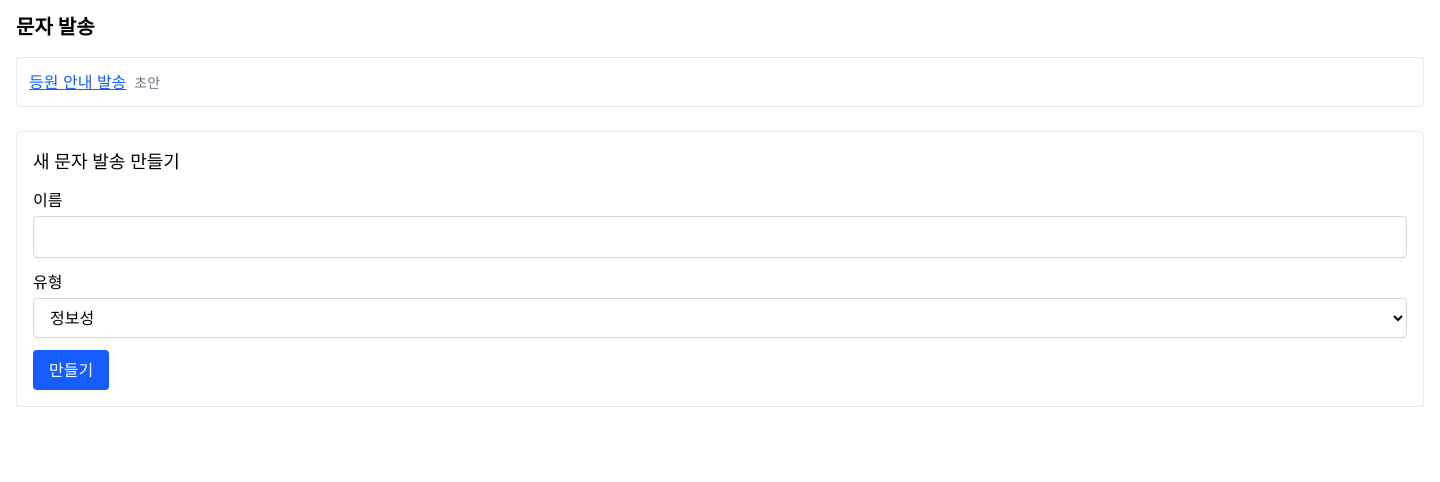
Test: MessageDraftsListPage › loads drafts and creates a new one
Expected: the link "등원 안내 발송" is shown, x1=29 y1=72 x2=126 y2=92
Step 1. Type "신규 발송" into the field labelled "이름" → (720, 237), box x1=33 y1=216 x2=1407 y2=258
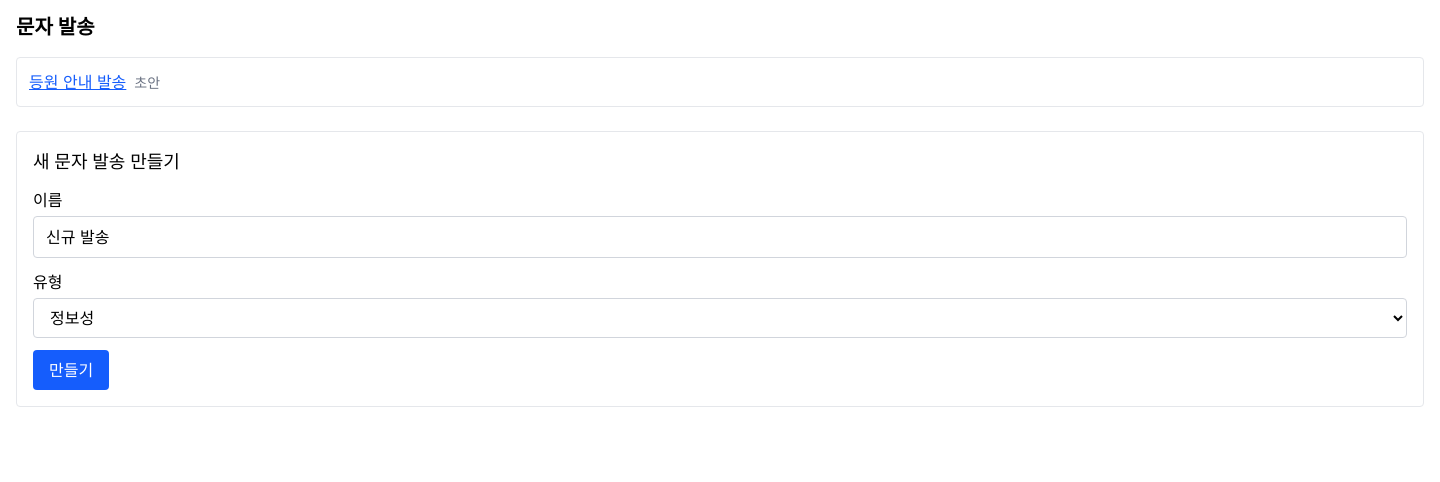
Step 2. Click the button "만들기" → (71, 370), box x1=33 y1=350 x2=109 y2=390
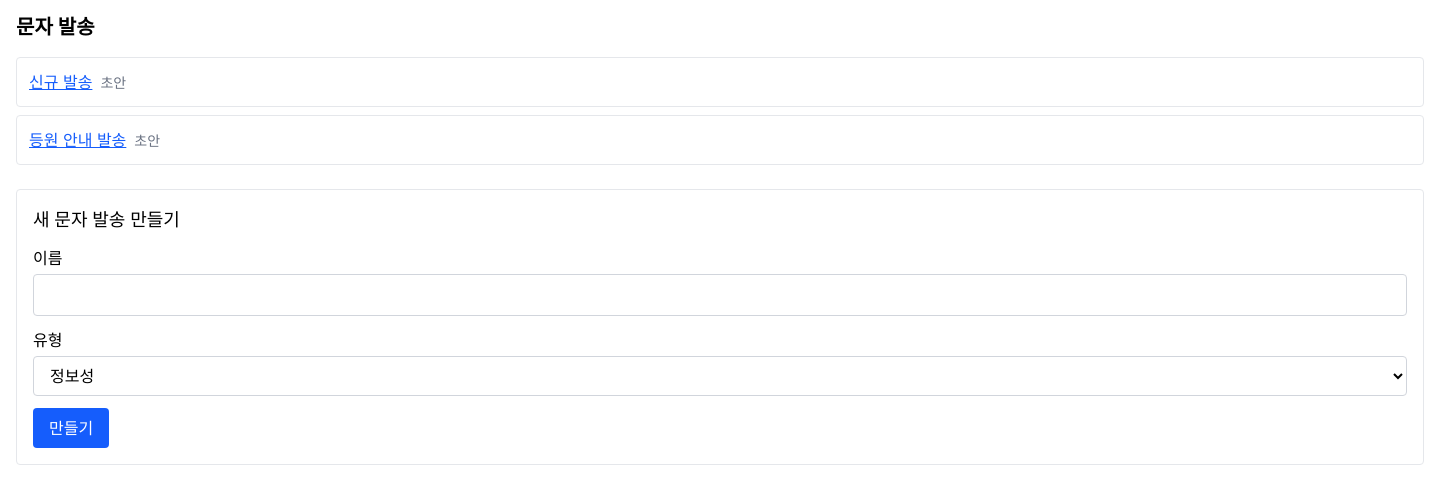
Result: the link "신규 발송" is shown at x1=29 y1=72 x2=92 y2=92
